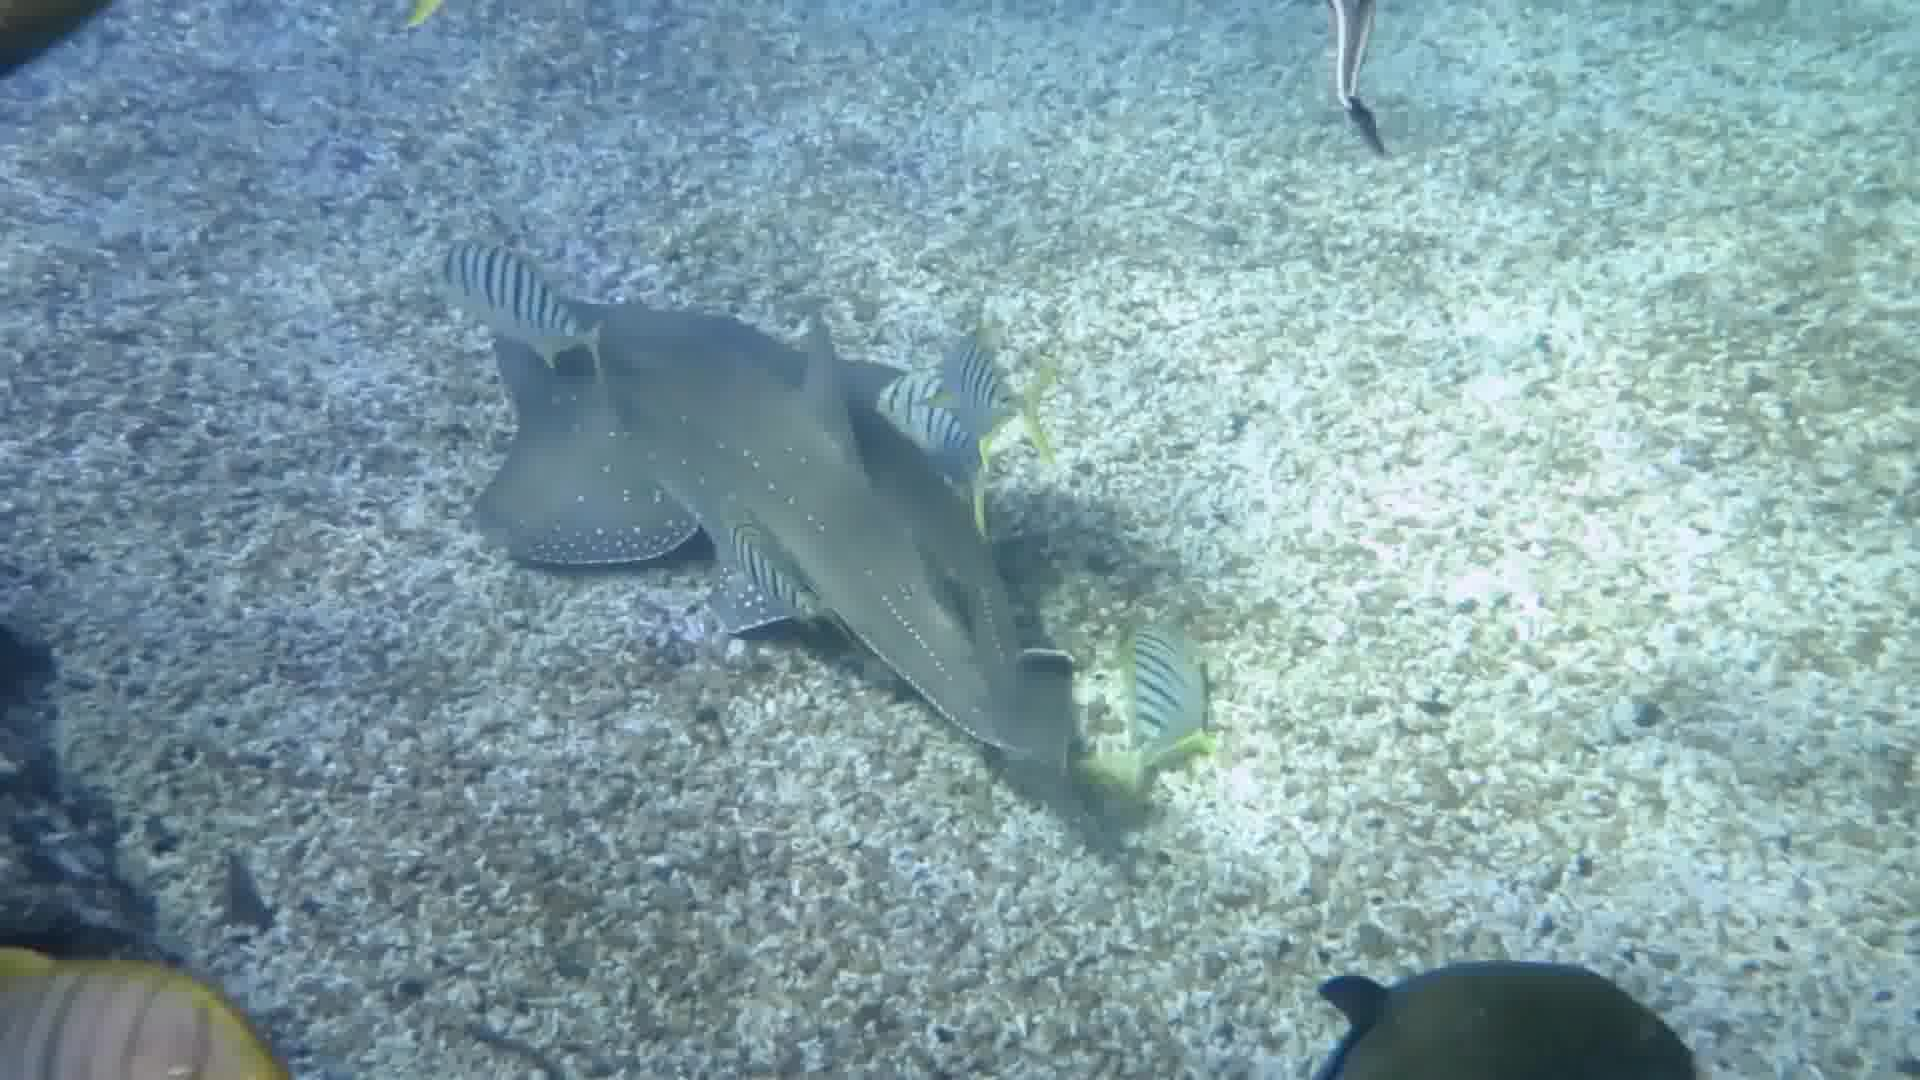Rhychobatus djiddensis: (286, 227, 1317, 790)
